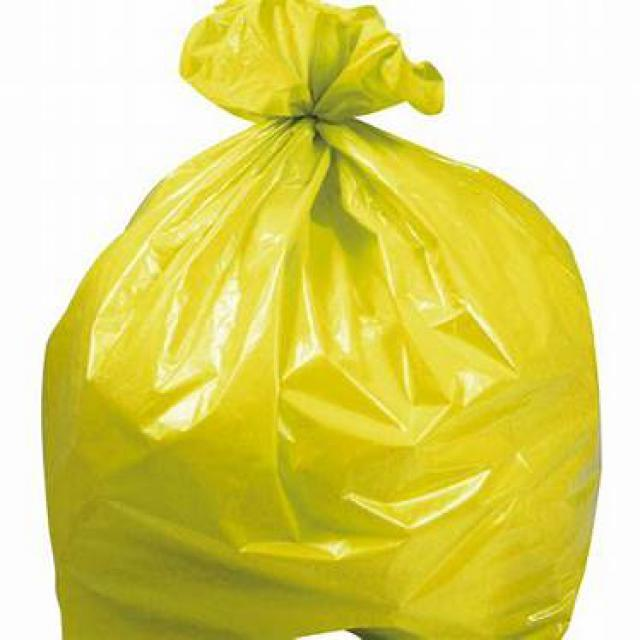waste: (44, 0, 591, 633)
